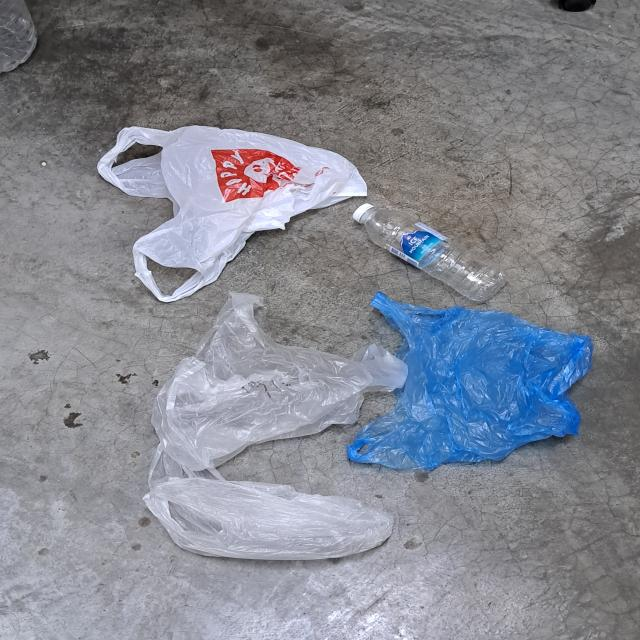plastic bag: (95, 126, 368, 305), (150, 293, 409, 472), (346, 292, 594, 470), (141, 478, 396, 559)
plastic bottle: (364, 209, 507, 302), (0, 0, 41, 70)
plastic bottle cap: (353, 203, 375, 223)
